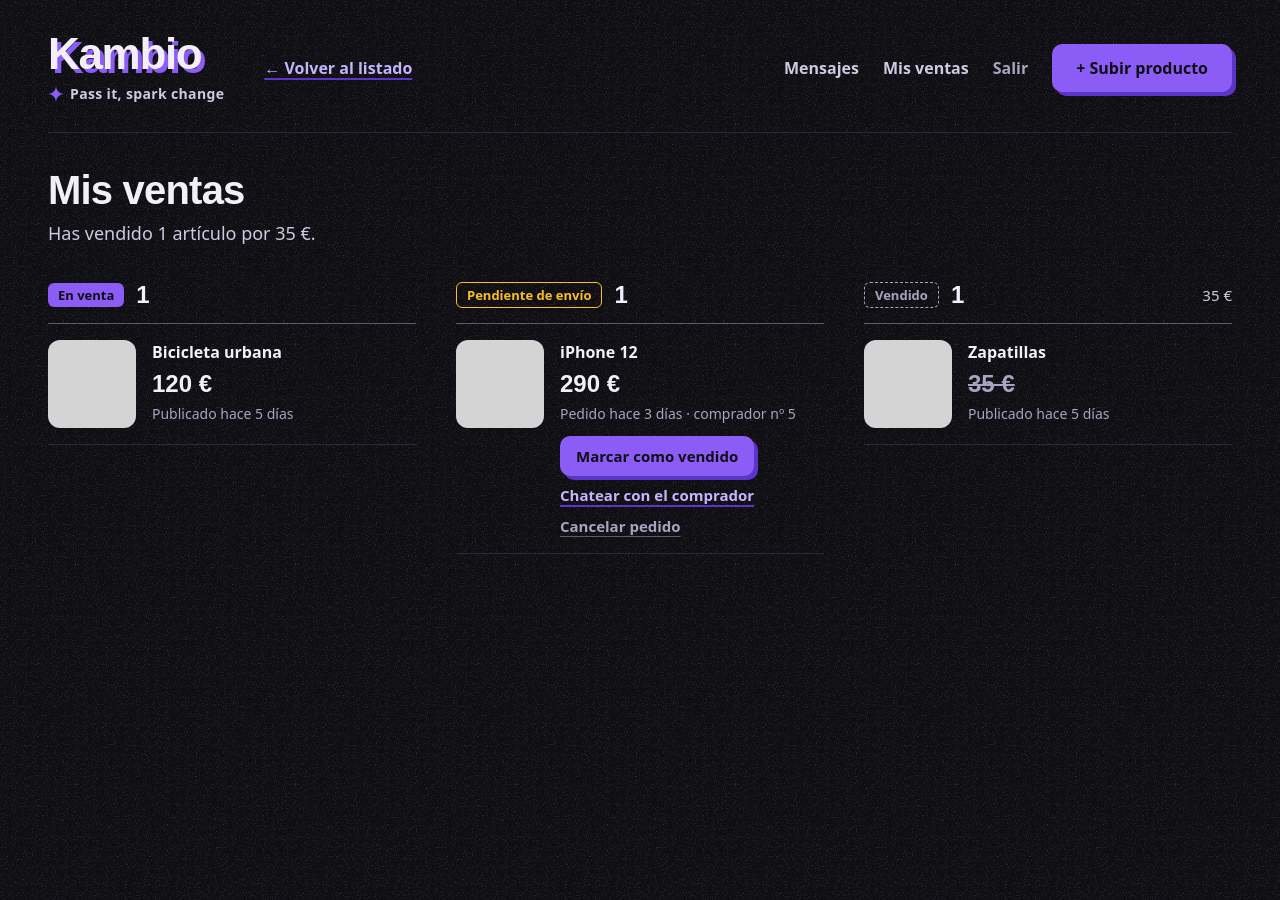
Test: SalesPage › si la API rechaza el cambio, el aviso sale en la fila y el artículo no se mueve
Click the button "Marcar como vendido". click: (657, 456)
box: [560,436,754,476]
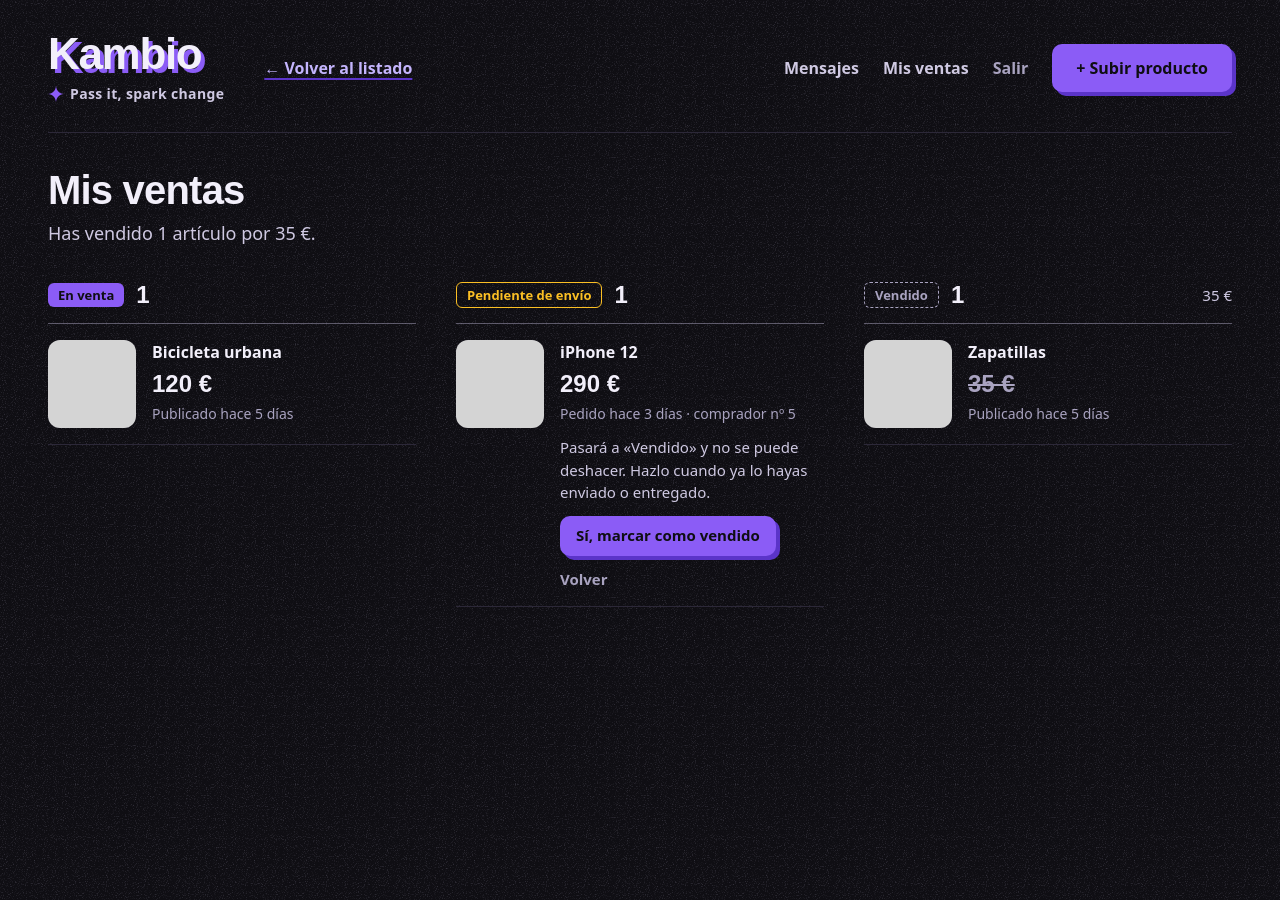
Click the button "Sí, marcar como vendido". click: (668, 536)
box: [560,516,776,556]
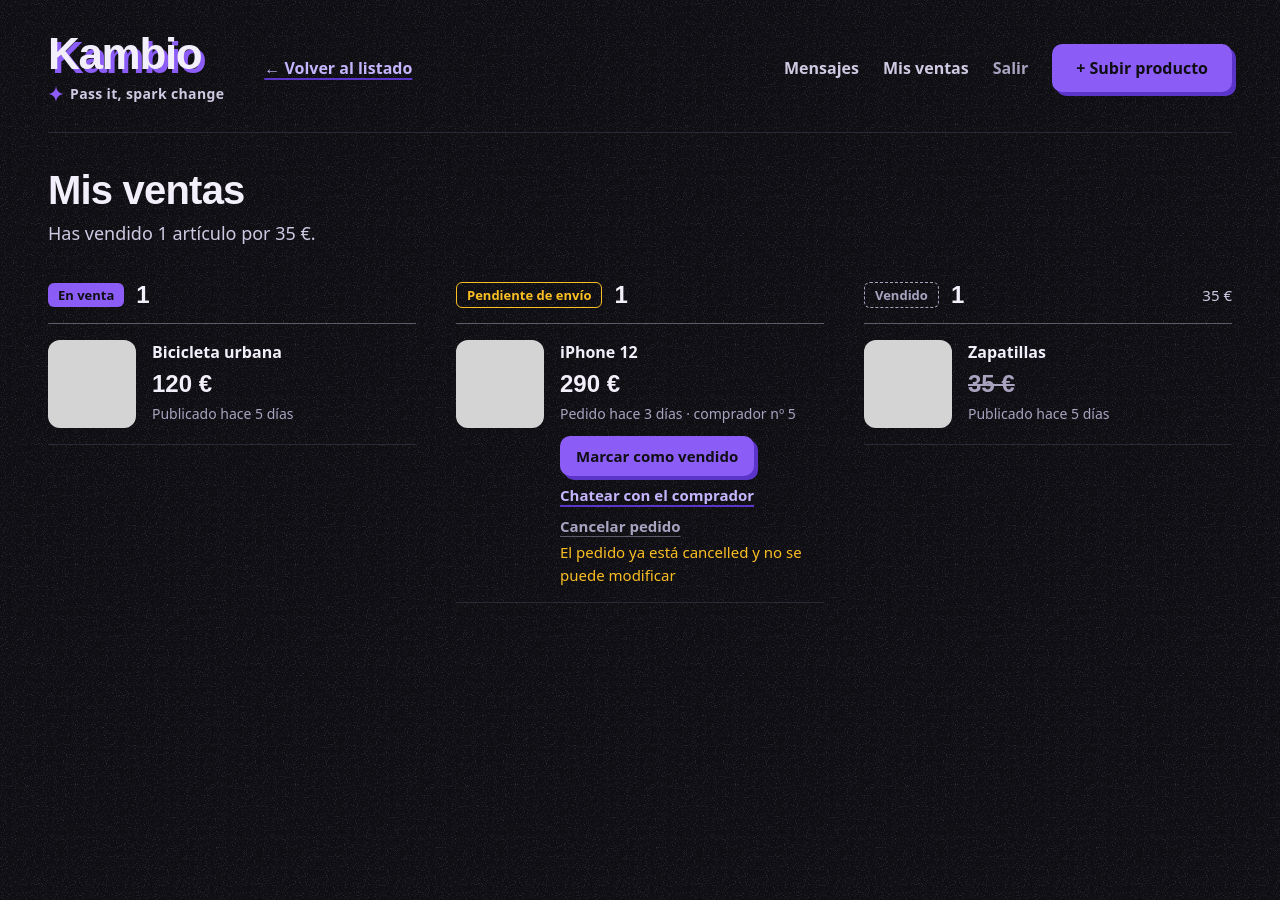
Expected: the link "iPhone 12" is shown, [560,341,638,363]
Expected: the message shows "no se puede modificar", [560,542,802,584]
